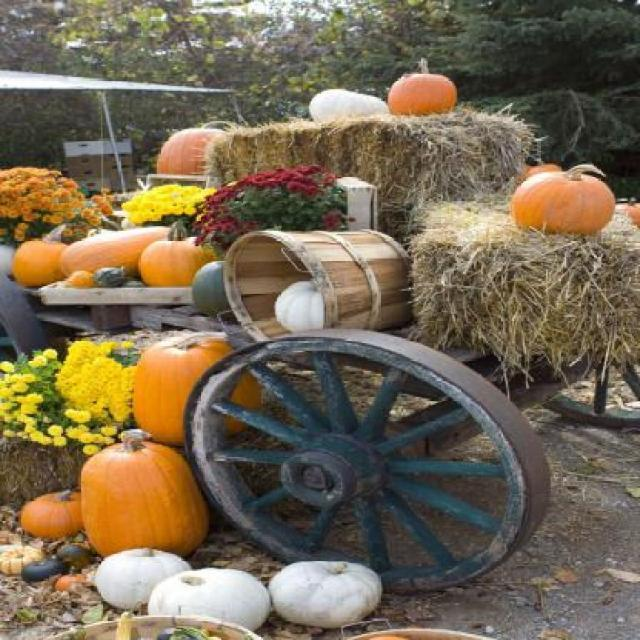Pumpkin: (78, 424, 208, 556), (128, 329, 267, 443), (145, 567, 270, 630), (268, 560, 382, 628), (509, 162, 617, 228), (92, 544, 194, 612), (135, 216, 231, 286), (55, 224, 180, 276), (152, 117, 238, 180), (15, 488, 94, 540), (384, 59, 458, 112), (9, 218, 66, 284), (192, 258, 240, 322), (308, 88, 387, 120), (0, 544, 40, 576), (22, 556, 64, 582), (66, 267, 100, 290), (94, 265, 126, 287), (58, 570, 88, 593), (528, 158, 562, 176), (622, 202, 640, 224)
